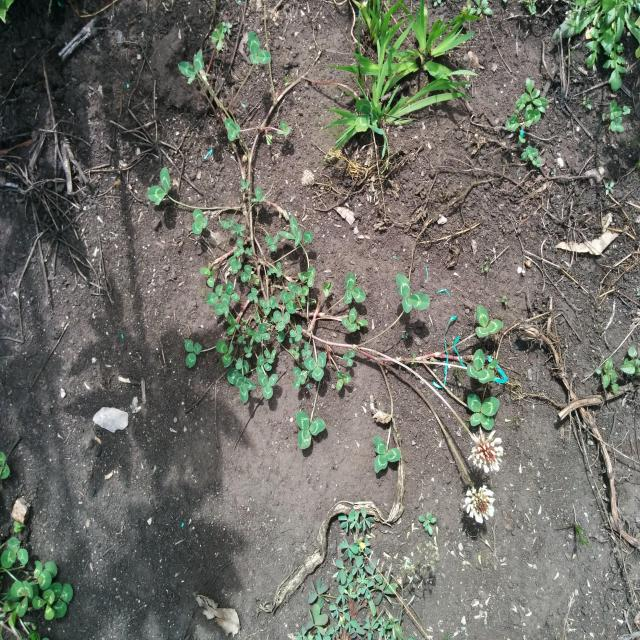Four Leaf Clover: (467, 394, 499, 430)
